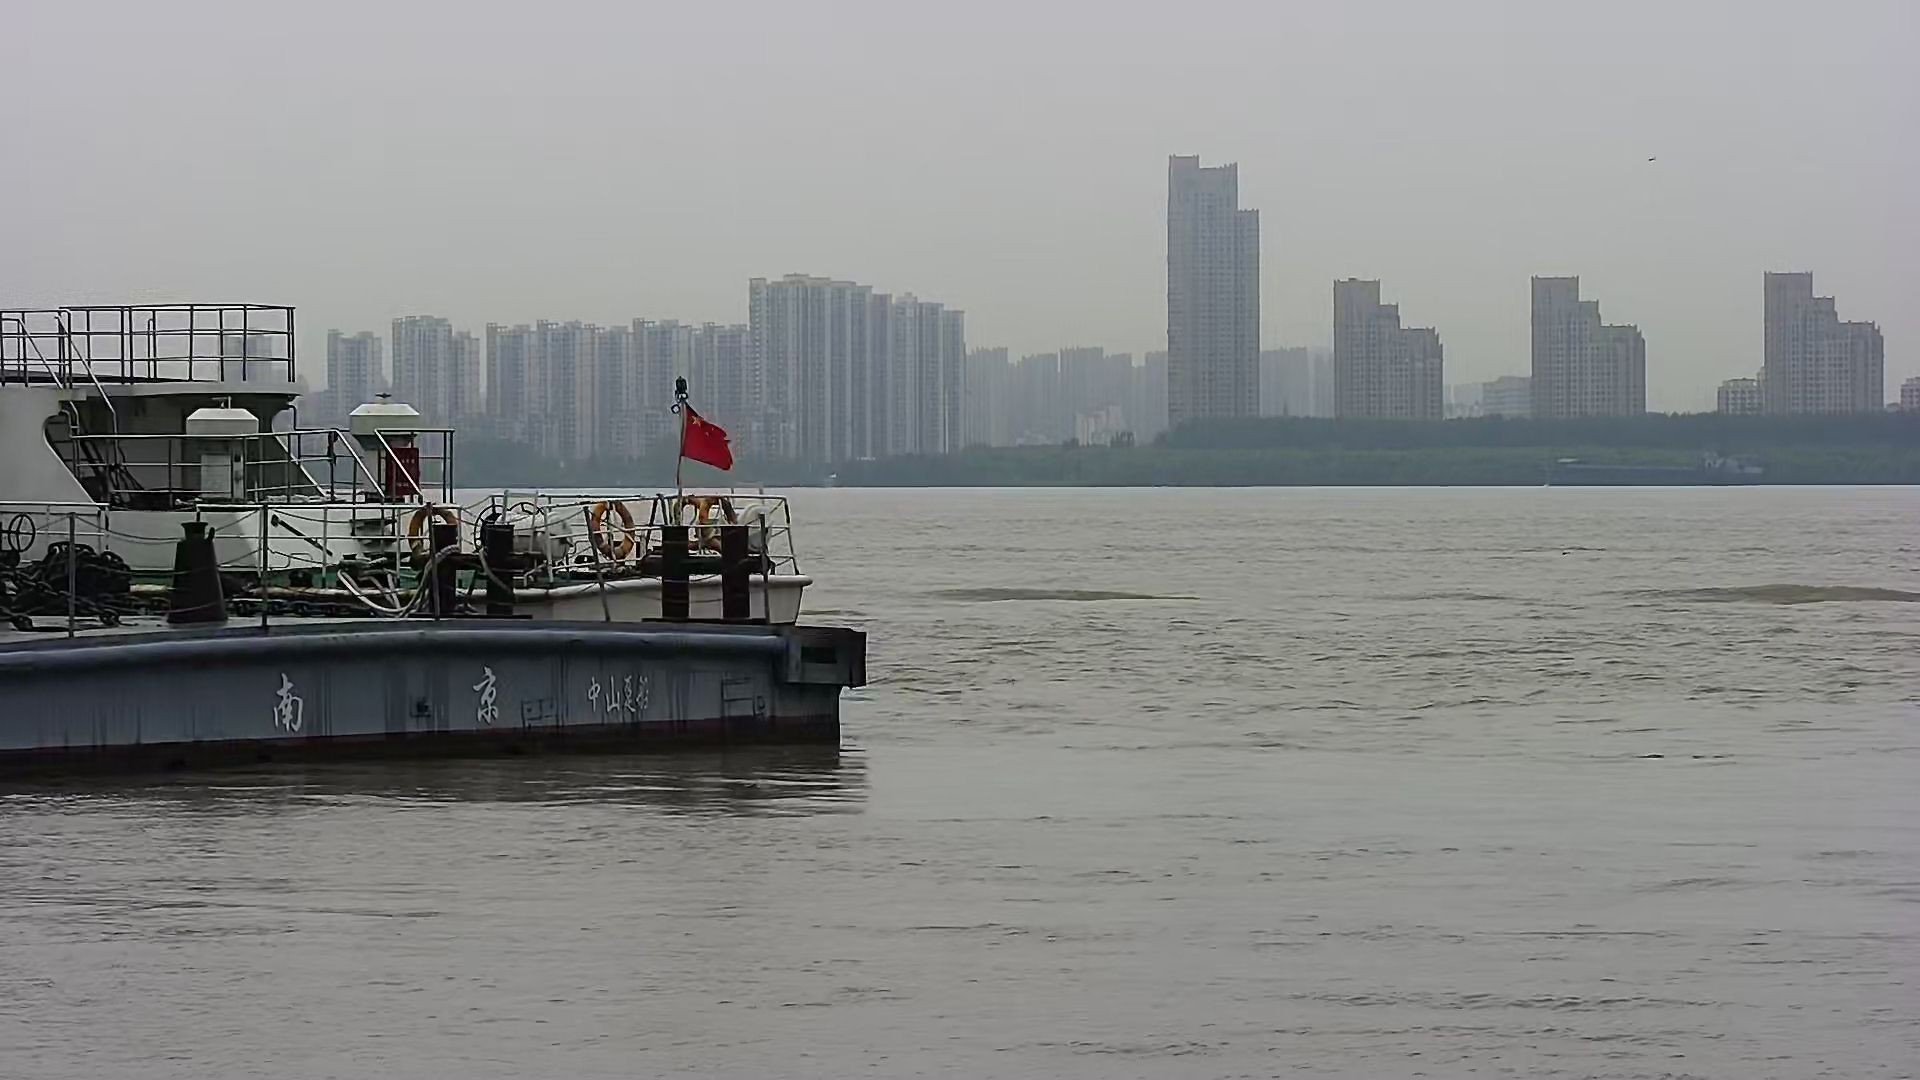ship: (1, 306, 872, 764)
